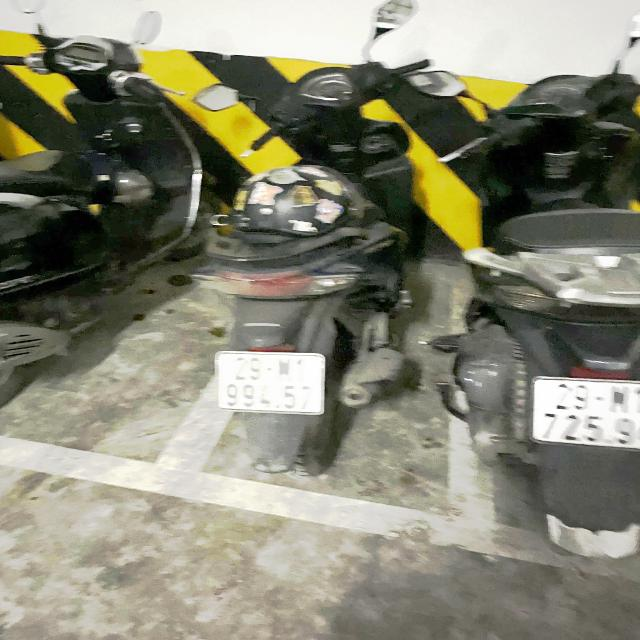license_plate: (528, 376, 640, 448), (216, 351, 330, 417)
